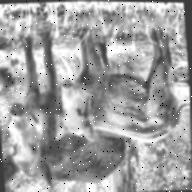boar: (0, 52, 150, 192), (47, 29, 191, 153)
